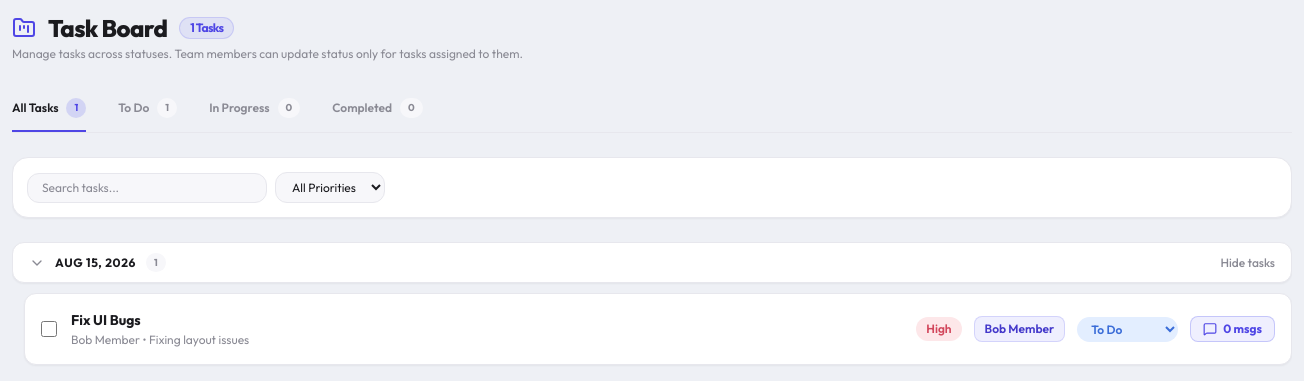
Scenario: TaskBoard Component Status-Change Tests › renders task cards and allows assigned Team Member to change task status via select dropdown
The image size is (1304, 381).
Expected: the text "Fix UI Bugs" is shown, [71, 311, 141, 329]
Expected: the 1st dropdown is shown, [275, 172, 385, 203]
Select "In Progress" in the dropdown in the row of "High" at (1128, 329), box [1077, 316, 1178, 342]
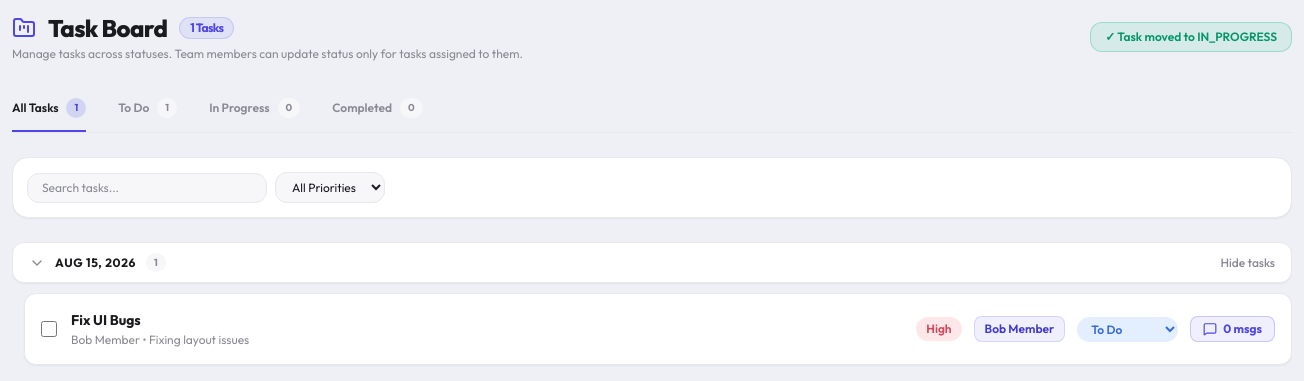
Expected: the text "✓ Task moved to IN_PROGRESS" is shown, [1090, 22, 1292, 52]
